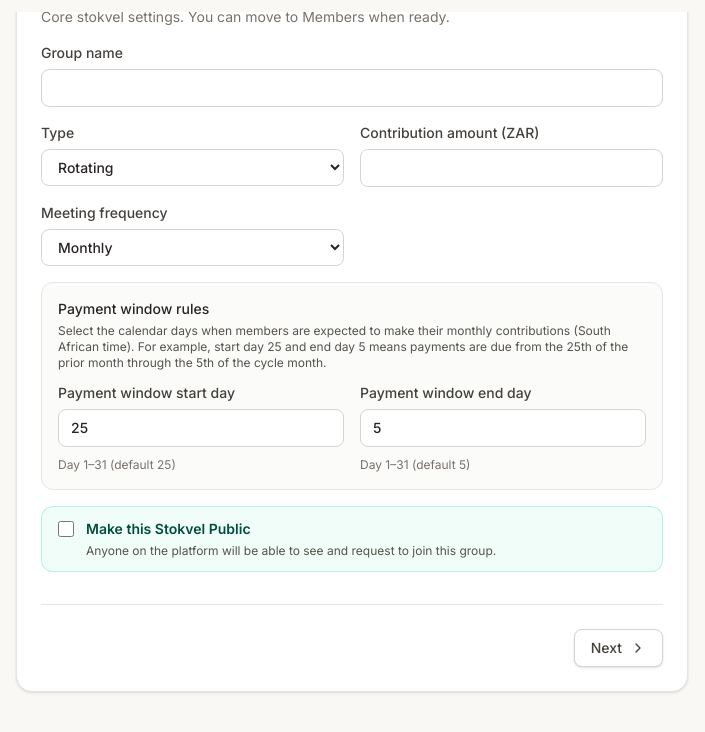
Test: CreateStokvelWizard › Member Management (Admin Variant) › adds pending member by email
The width and height of the screenshot is (705, 732).
(page scrolled)
Click the button "Next". click: (618,648)
box: left=574, top=629, right=663, bottom=667
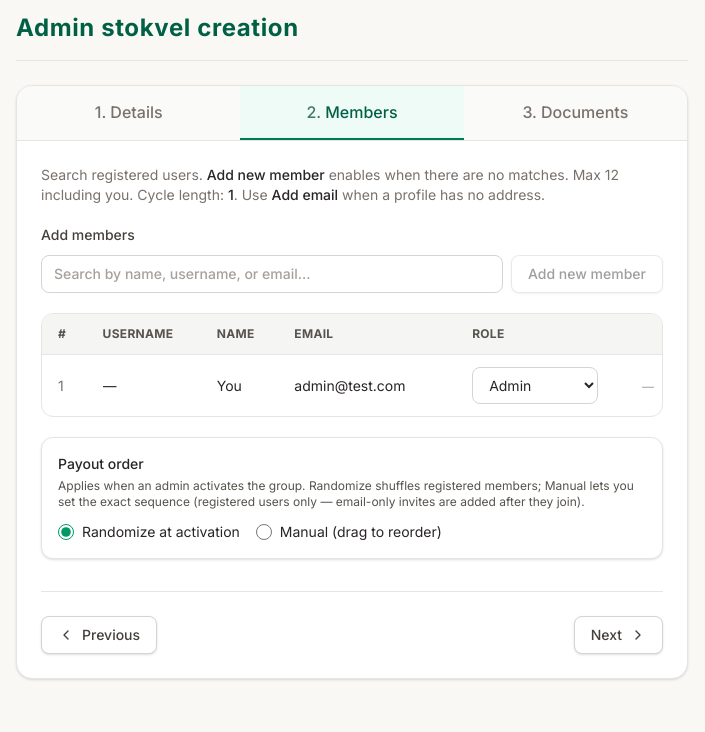
Type "newuser@example.com" into the field with placeholder "Search by name, username, or email…". click: (272,274)
box: left=41, top=255, right=503, bottom=293
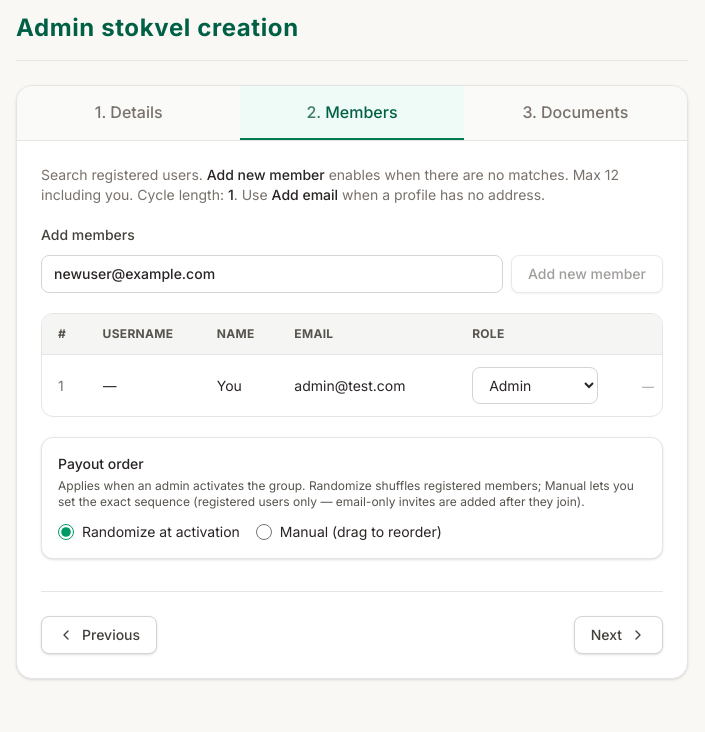
Focus the field with placeholder "Search by name, username, or email…". click: (272,274)
box: left=41, top=255, right=503, bottom=293
Wait 400 ms
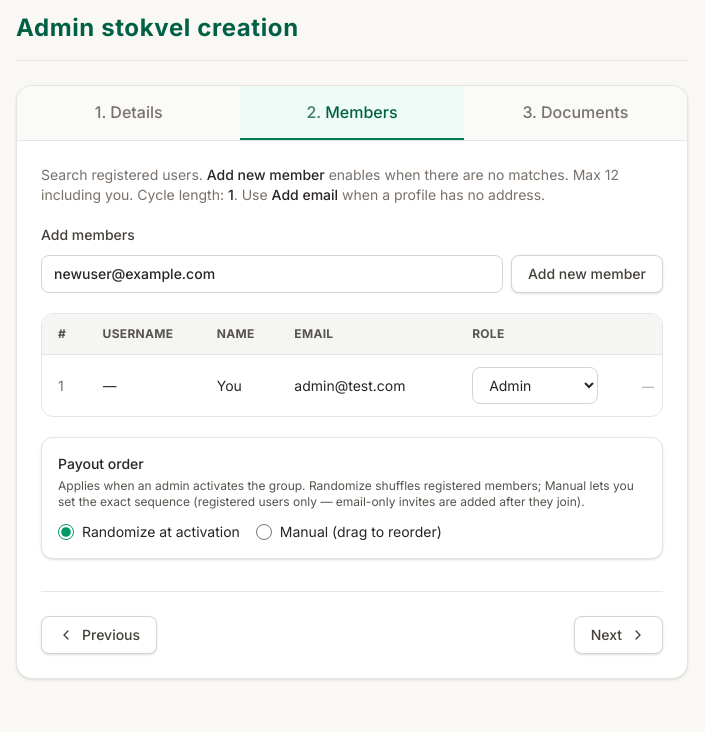
Check: the button "Add new member" is enabled
Click the button "Add new member". click: (587,274)
box: left=511, top=255, right=663, bottom=293
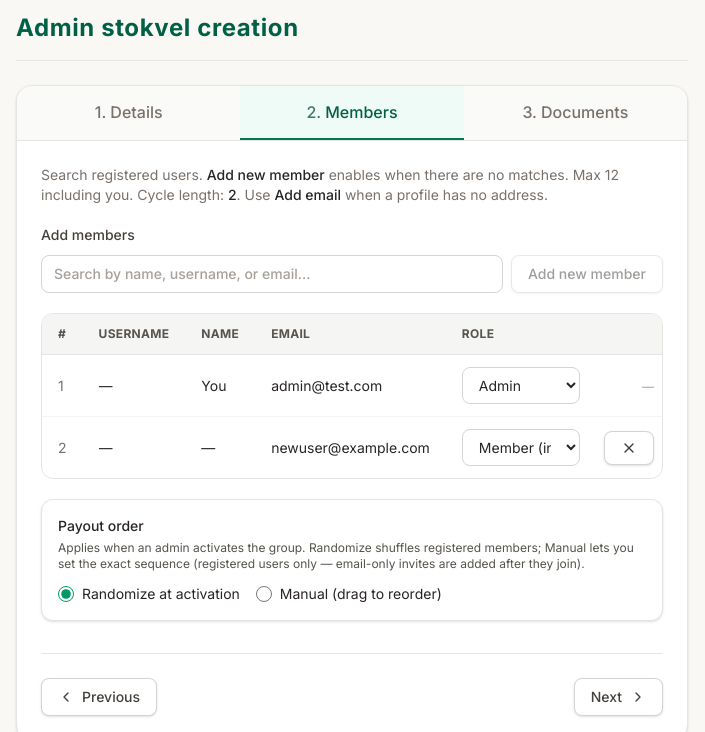
Check: the text "newuser@example.com" is shown, box left=271, top=438, right=430, bottom=458
